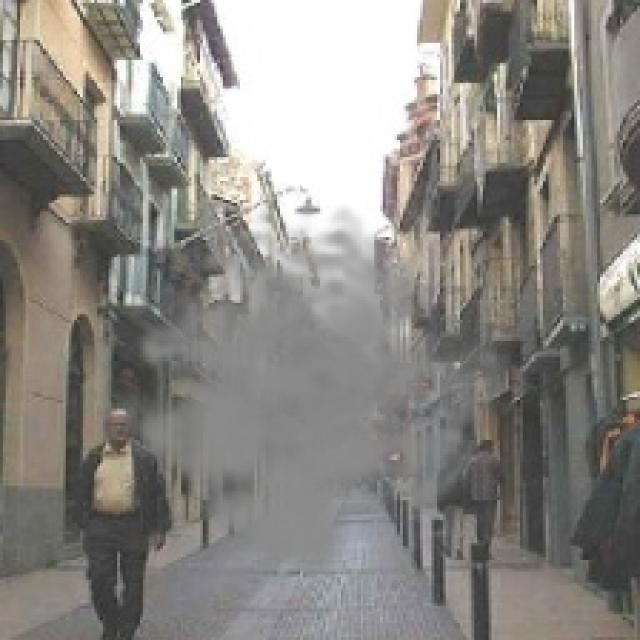Smoke: (97, 202, 520, 578)
